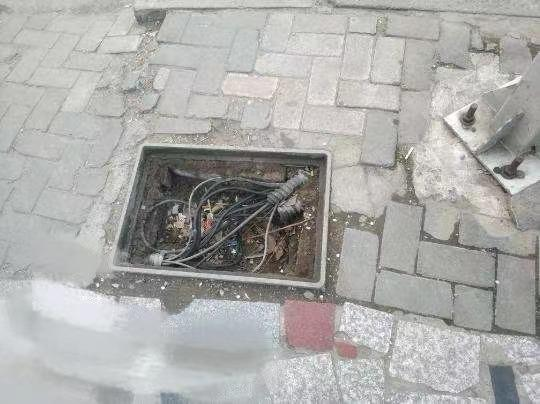wellcover: (109, 142, 349, 288)
